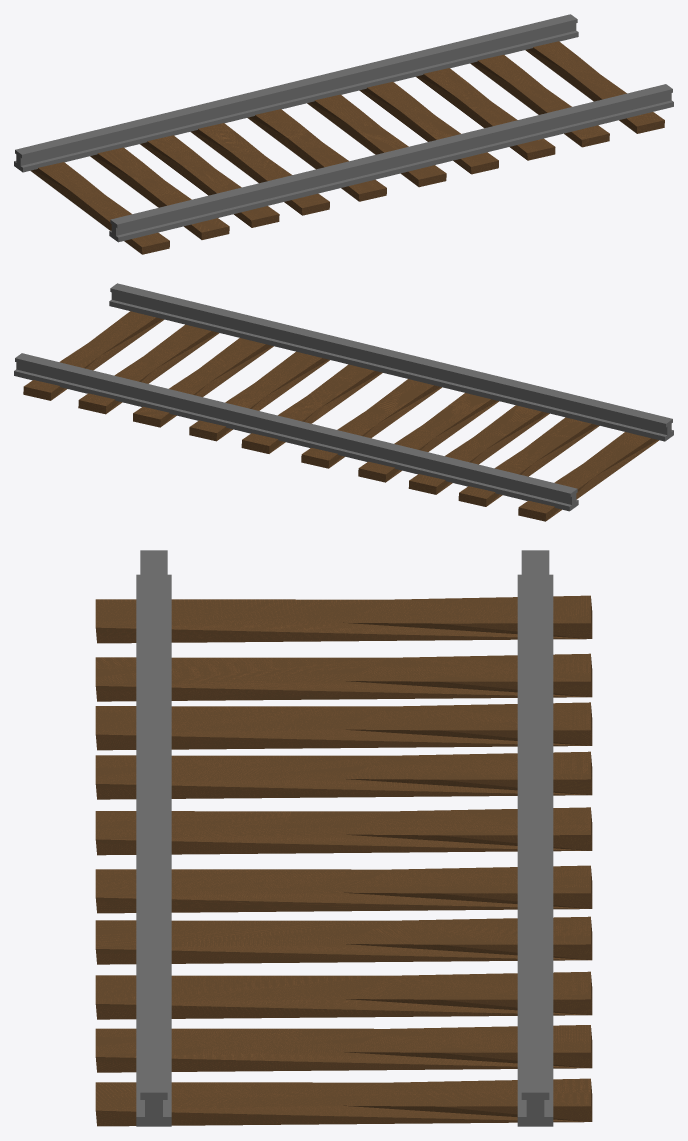
File: Rail_Track_Straight_01.fbx
3 views of the same model, one above another, from view 1: azimuth 30°, elevation 25°; view 2: azimuth 150°, elevation 25°; view 3: azimuth 270°, elevation 25° (orthographic). The views are drawn at different scales.
Parts seen in each view (by area): view 1: Model; view 2: Model; view 3: Model.
Boxes of the visible parts, bbox=[...] form: Model: bbox=[14, 14, 673, 254]; Model: bbox=[14, 283, 673, 521]; Model: bbox=[95, 550, 592, 1126].
Size of the model in its own units: 858 by 38.68 by 332.
